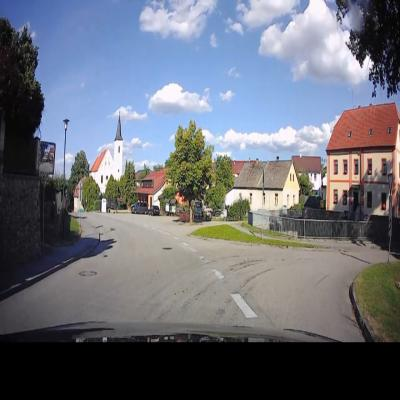clear-road: (0, 223, 388, 341)
